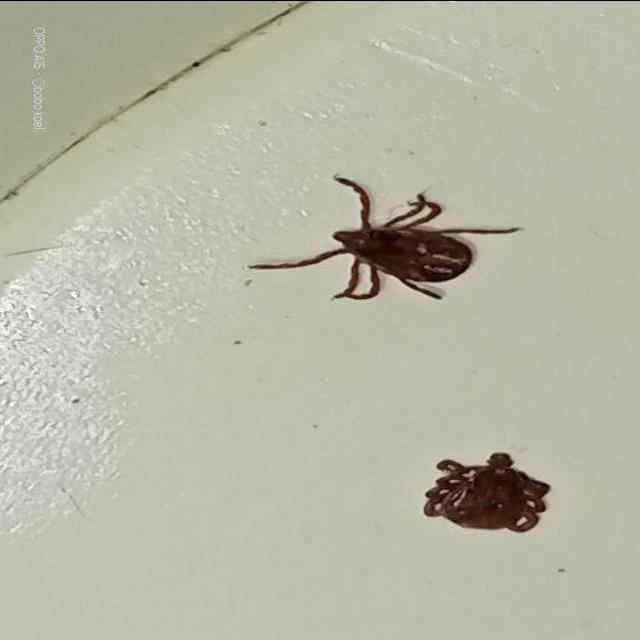Rhipicephalus Sanguineus-M: (250, 174, 502, 300), (421, 450, 551, 533)
